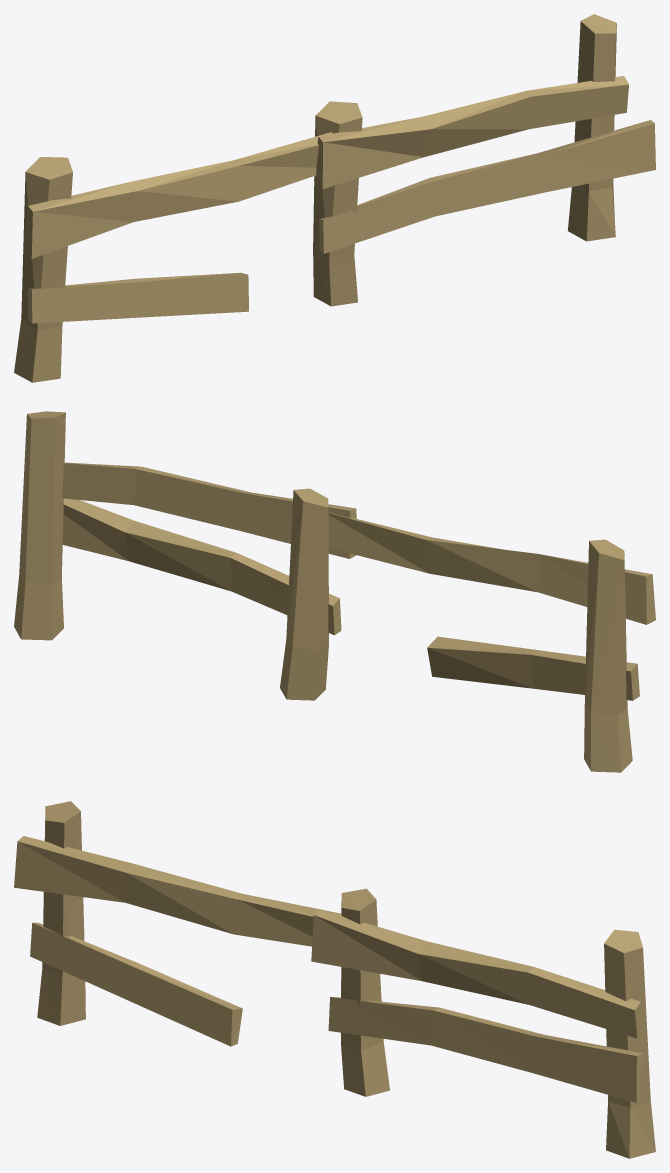
Rendered from Fence1.fbx.
The picture shows the model from 3 angles, top to bottom: view 1: azimuth 30°, elevation 25°; view 2: azimuth 150°, elevation 25°; view 3: azimuth 330°, elevation 25°; orthographic projection.
Visible parts, largest first — view 1: shard1, shard7, shard4, shard5, shard6, shard3, shard2, shard8; view 2: shard4, shard1, shard7, shard6, shard3, shard2, shard5, shard14; view 3: shard7, shard4, shard1, shard5, shard2, shard6, shard3, shard8.
Part boxes in pixels (left/top/right/bottom): shard1: left=319, top=120, right=655, bottom=253; shard7: left=314, top=76, right=628, bottom=189; shard4: left=23, top=132, right=332, bottom=258; shard5: left=27, top=272, right=248, bottom=323; shard6: left=14, top=157, right=72, bottom=382; shard3: left=313, top=101, right=362, bottom=306; shard2: left=567, top=14, right=616, bottom=240; shard8: left=586, top=192, right=615, bottom=241; shard4: left=328, top=512, right=655, bottom=624; shard1: left=62, top=498, right=341, bottom=635; shard7: left=62, top=462, right=356, bottom=558; shard6: left=584, top=539, right=632, bottom=772; shard3: left=280, top=488, right=328, bottom=700; shard2: left=19, top=411, right=65, bottom=639; shard5: left=427, top=636, right=639, bottom=700; shard14: left=21, top=582, right=63, bottom=640; shard7: left=311, top=909, right=643, bottom=1038; shard4: left=14, top=836, right=341, bottom=946; shard1: left=328, top=997, right=646, bottom=1102; shard5: left=30, top=922, right=242, bottom=1046; shard2: left=604, top=929, right=655, bottom=1158; shard6: left=37, top=801, right=85, bottom=1025; shard3: left=341, top=888, right=389, bottom=1096; shard8: left=606, top=1101, right=629, bottom=1158.
Bounding box in the file's own units: 497 × 163 × 57.14.
